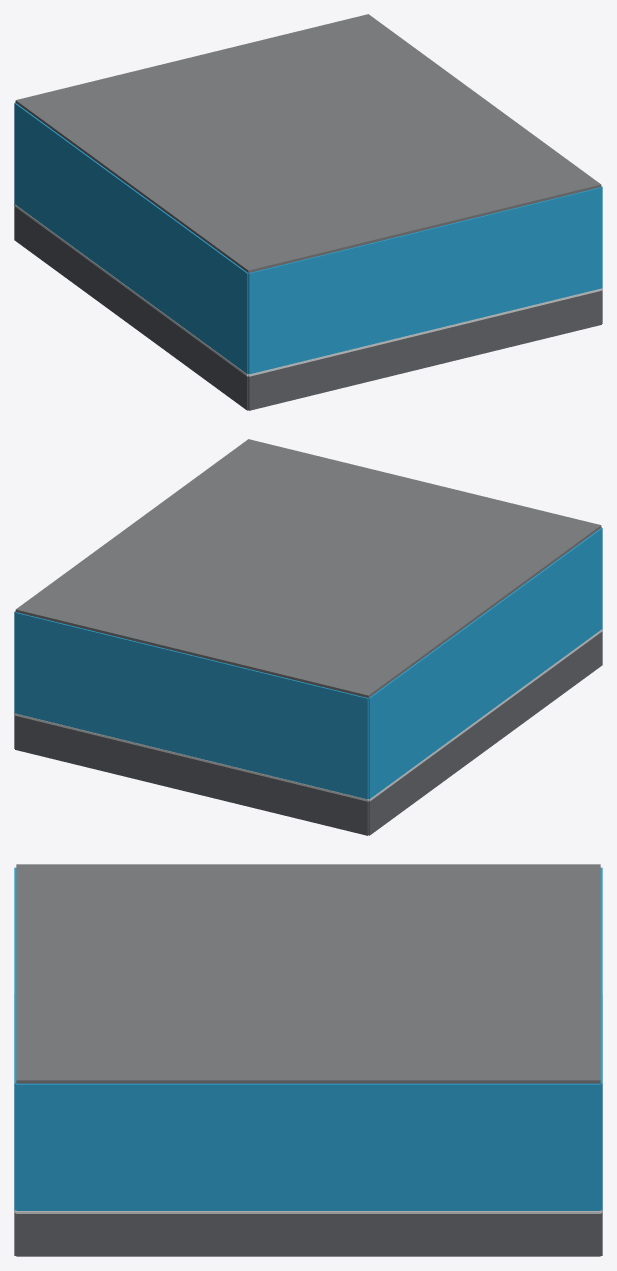
Rendered from innova-gam.glb.
3 views of the same model, one above another, from view 1: azimuth 30°, elevation 25°; view 2: azimuth 150°, elevation 25°; view 3: azimuth 270°, elevation 25° (orthographic). The views are drawn at different scales.
Visible parts, largest first — view 1: Roof, Wall_S_Blue, Wall_W_Blue, Wall_S_Grey, Wall_W_Grey, Wall_S_Trim, Wall_W_Trim; view 2: Roof, Wall_N_Blue, Wall_W_Blue, Wall_N_Grey, Wall_W_Grey, Wall_N_Trim, Wall_W_Trim; view 3: Roof, Wall_E_Blue, Wall_E_Grey, Wall_E_Trim, Wall_N_Blue, Wall_S_Blue.
Part boxes in pixels (<box>): Roof: <box>15,14,601,272</box>; Wall_S_Blue: <box>248,187,601,374</box>; Wall_W_Blue: <box>14,103,248,374</box>; Wall_S_Grey: <box>248,290,601,410</box>; Wall_W_Grey: <box>14,206,248,410</box>; Wall_S_Trim: <box>248,288,602,376</box>; Wall_W_Trim: <box>14,204,248,376</box>; Roof: <box>15,439,601,697</box>; Wall_N_Blue: <box>15,612,368,799</box>; Wall_W_Blue: <box>368,528,602,799</box>; Wall_N_Grey: <box>15,715,368,835</box>; Wall_W_Grey: <box>368,631,602,835</box>; Wall_N_Trim: <box>14,713,368,801</box>; Wall_W_Trim: <box>368,629,602,801</box>; Roof: <box>16,864,600,1083</box>; Wall_E_Blue: <box>16,1083,600,1210</box>; Wall_E_Grey: <box>16,1214,600,1256</box>; Wall_E_Trim: <box>15,1210,601,1213</box>; Wall_N_Blue: <box>600,867,602,1210</box>; Wall_S_Blue: <box>14,867,16,1210</box>.
Size of the model in its own units: 14.12 by 5.3 by 16.12.
